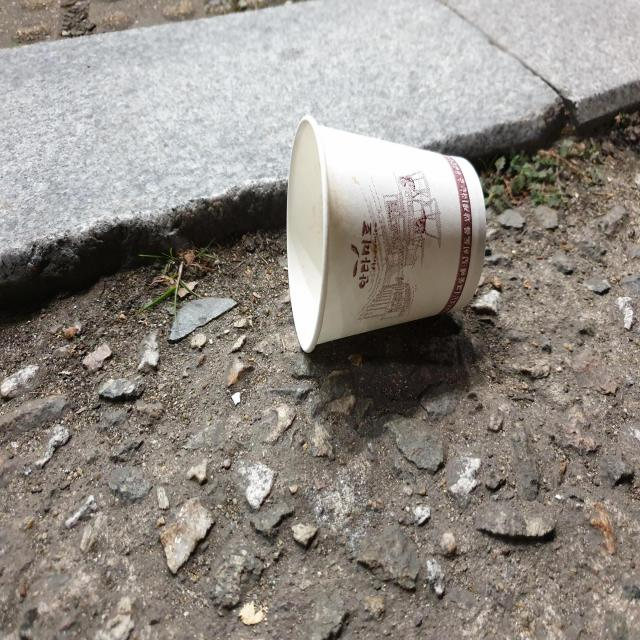paperpack: (287, 115, 487, 352)
